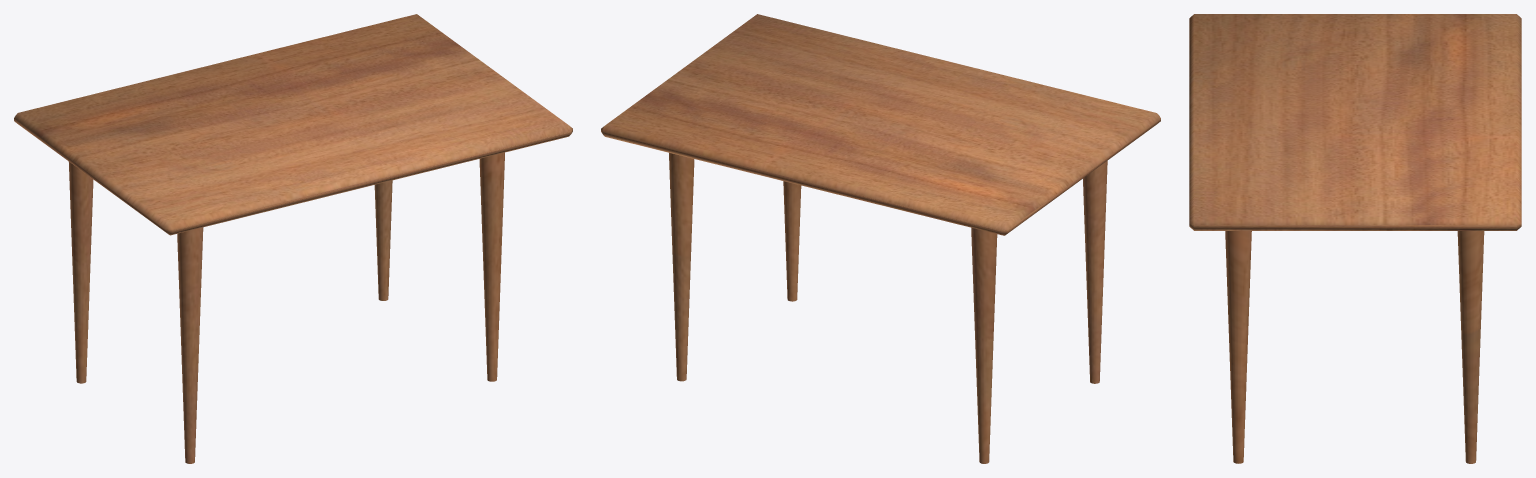
Rendered from desk.DAE.
The picture shows the model from 3 angles, left to right: view 1: azimuth 30°, elevation 25°; view 2: azimuth 150°, elevation 25°; view 3: azimuth 270°, elevation 25°; orthographic projection. The views are drawn at different scales.
Parts seen in each view (by area): view 1: ChamferBox01, Cylinder16, Cylinder05, Cylinder15, Cylinder10; view 2: ChamferBox01, Cylinder15, Cylinder10, Cylinder16, Cylinder05; view 3: ChamferBox01, Cylinder10, Cylinder05.
Boxes of the visible parts, left/top/right/bottom form: ChamferBox01: left=14, top=14, right=572, bottom=235; Cylinder16: left=177, top=227, right=203, bottom=463; Cylinder05: left=479, top=152, right=504, bottom=381; Cylinder15: left=68, top=161, right=93, bottom=383; Cylinder10: left=374, top=180, right=392, bottom=300; ChamferBox01: left=601, top=14, right=1160, bottom=235; Cylinder15: left=971, top=227, right=997, bottom=463; Cylinder10: left=669, top=153, right=694, bottom=381; Cylinder16: left=1083, top=161, right=1107, bottom=383; Cylinder05: left=783, top=181, right=801, bottom=301; ChamferBox01: left=1189, top=14, right=1521, bottom=230; Cylinder10: left=1457, top=231, right=1484, bottom=463; Cylinder05: left=1225, top=231, right=1251, bottom=463.
Size of the model in its own units: 150 by 100 by 93.24.
